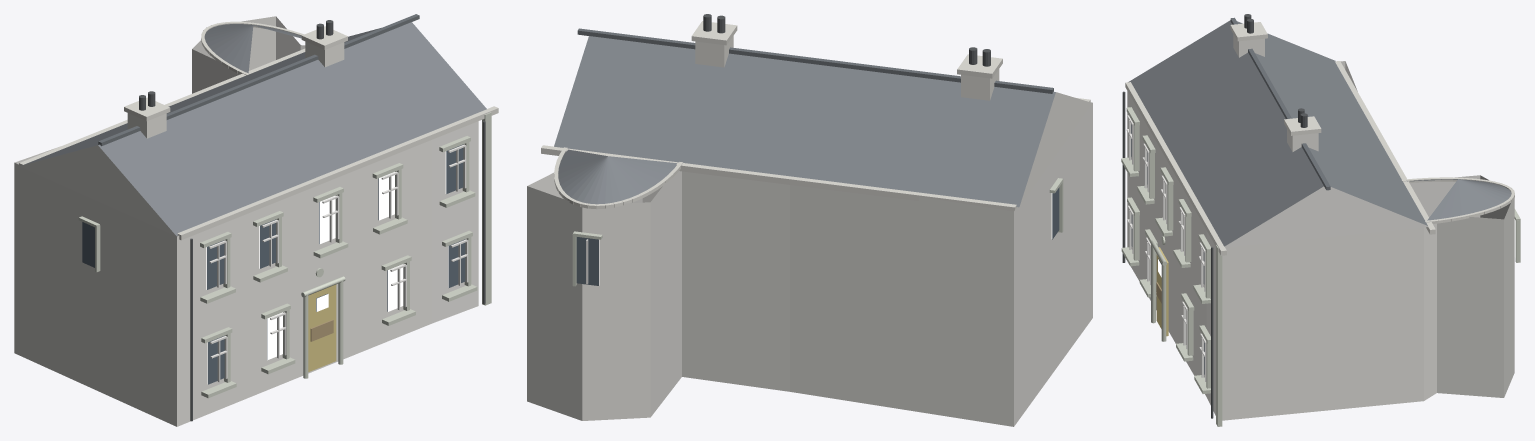
3 renders of one model, left to right at view 1: azimuth 30°, elevation 25°; view 2: azimuth 150°, elevation 25°; view 3: azimuth 270°, elevation 25°, orthographic. The views are drawn at different scales.
Visible parts, largest first — view 1: harl, slate, dress_sage, dress_cream, frame, slate_dk, door_yellow, pipe, chim_render, window_glass_008, window_glass_012, window_glass_007 (+7 smaller); view 2: harl, slate, dress_cream, slate_dk, chim_render, window_glass_002, dress_sage, pipe; view 3: harl, slate, dress_sage, dress_cream, frame, pipe, chim_render, slate_dk, door_yellow.
Boxes of the visible parts, x1,y1,x2,y2 form: harl: [14, 16, 478, 426]; slate: [21, 22, 486, 235]; dress_sage: [78, 112, 491, 398]; dress_cream: [19, 21, 498, 240]; frame: [209, 144, 468, 382]; slate_dk: [98, 14, 419, 146]; door_yellow: [308, 284, 336, 371]; pipe: [139, 20, 485, 421]; chim_render: [127, 41, 344, 138]; window_glass_008: [445, 144, 463, 193]; window_glass_012: [206, 240, 224, 289]; window_glass_007: [207, 336, 224, 384]; harl: [527, 92, 1092, 426]; slate: [554, 36, 1055, 207]; dress_cream: [541, 21, 1090, 211]; slate_dk: [577, 28, 1053, 93]; chim_render: [695, 36, 999, 100]; window_glass_002: [576, 237, 599, 285]; dress_sage: [572, 178, 1063, 286]; pipe: [703, 14, 990, 66]; harl: [1127, 61, 1514, 420]; slate: [1128, 20, 1511, 246]; dress_sage: [1121, 107, 1520, 426]; dress_cream: [1125, 22, 1514, 255]; frame: [1126, 115, 1206, 381]; pipe: [1122, 14, 1307, 418]; chim_render: [1233, 34, 1318, 151]; slate_dk: [1230, 17, 1330, 190]; door_yellow: [1156, 247, 1168, 336].
Size of the model in its own units: 12.21 by 7.71 by 10.77.
